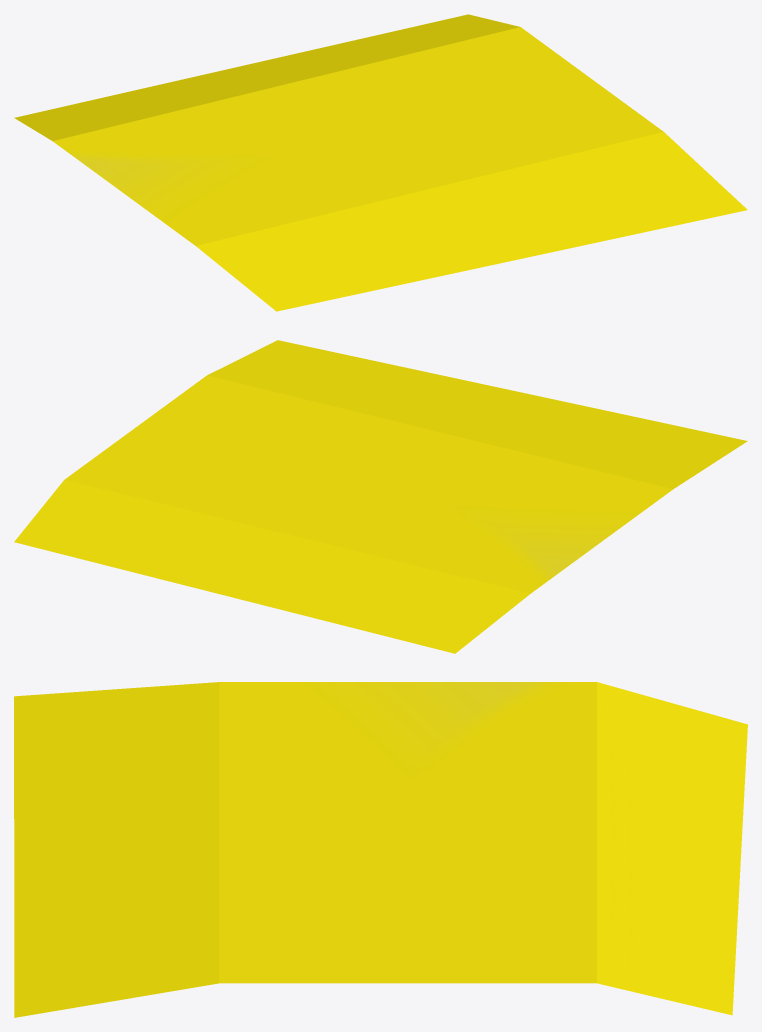
File: queso.glb
3 renders of one model, top to bottom at view 1: azimuth 30°, elevation 25°; view 2: azimuth 150°, elevation 25°; view 3: azimuth 270°, elevation 25°, orthographic. The views are drawn at different scales.
Parts seen in each view (by area): view 1: Queso; view 2: Queso; view 3: Queso.
Boxes of the visible parts, <box> form: Queso: <box>14,14,747,311</box>; Queso: <box>14,340,747,653</box>; Queso: <box>14,682,747,1017</box>.
Size of the model in its own units: 2.03 by 0.1009 by 2.06.
Materials: 1 (1 with a texture image).
